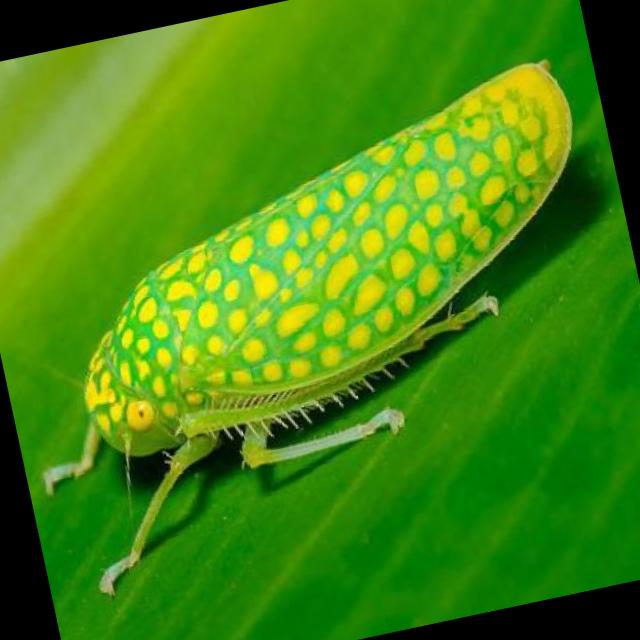green-leafhopper: (29, 54, 626, 470)
